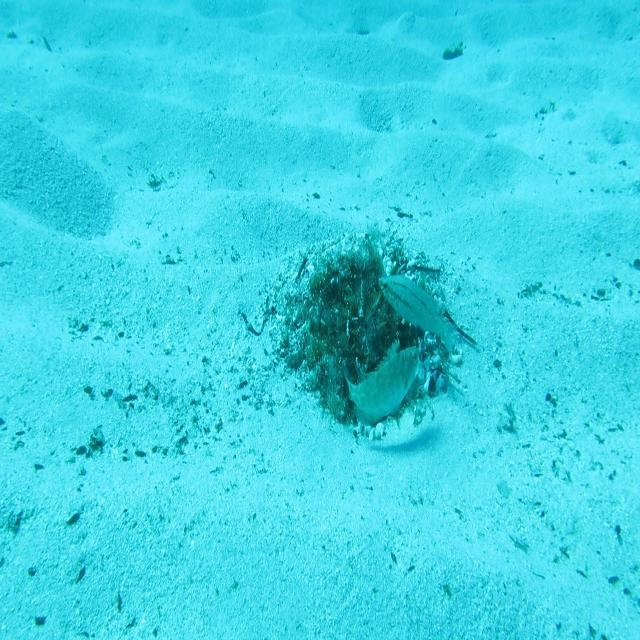BEND: (342, 337, 421, 429)
core_nest: (338, 270, 386, 319)
female: (377, 271, 457, 370)
nest: (255, 218, 465, 454)
vegetation: (442, 42, 466, 63)
